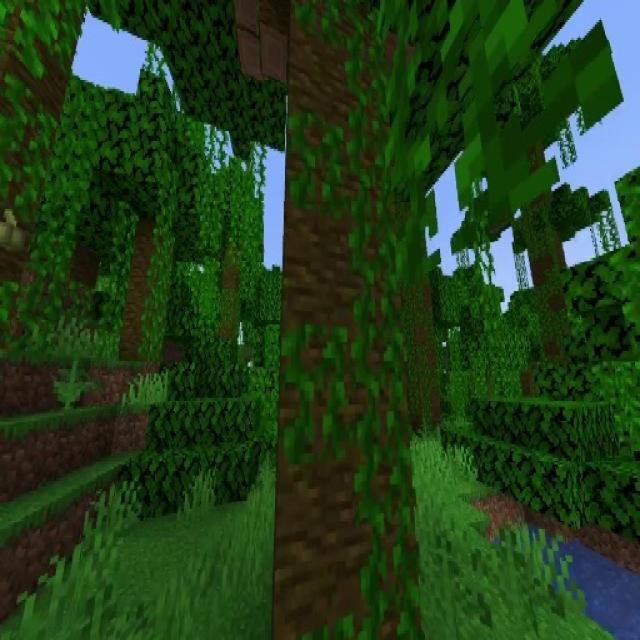jungle: (449, 28, 608, 356), (96, 61, 228, 358)
jungle_log: (276, 0, 418, 640), (510, 156, 570, 284), (120, 220, 168, 356)
